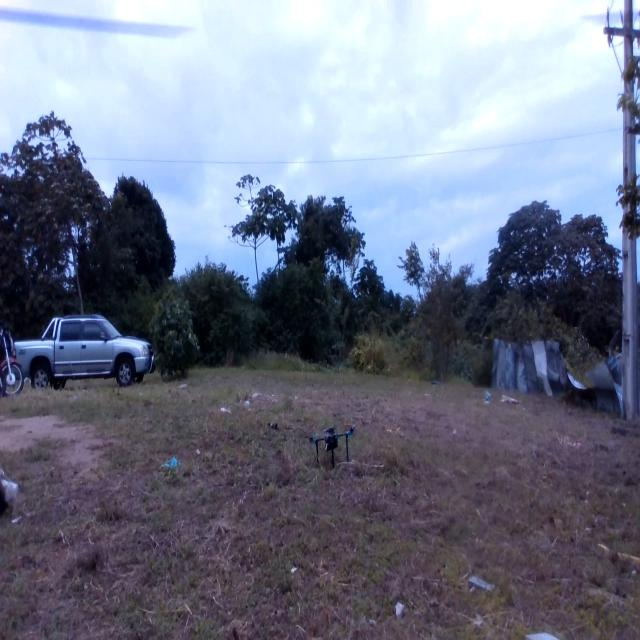-uav-: (305, 414, 356, 472)
